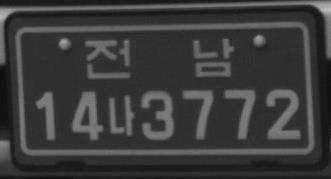1: (33, 90, 62, 141)
2: (264, 87, 303, 141)
3: (139, 89, 176, 142)
4: (69, 91, 104, 142)
7: (180, 87, 214, 142), (223, 88, 257, 141)
나: (106, 94, 137, 136)
전남_D: (82, 36, 235, 80)
